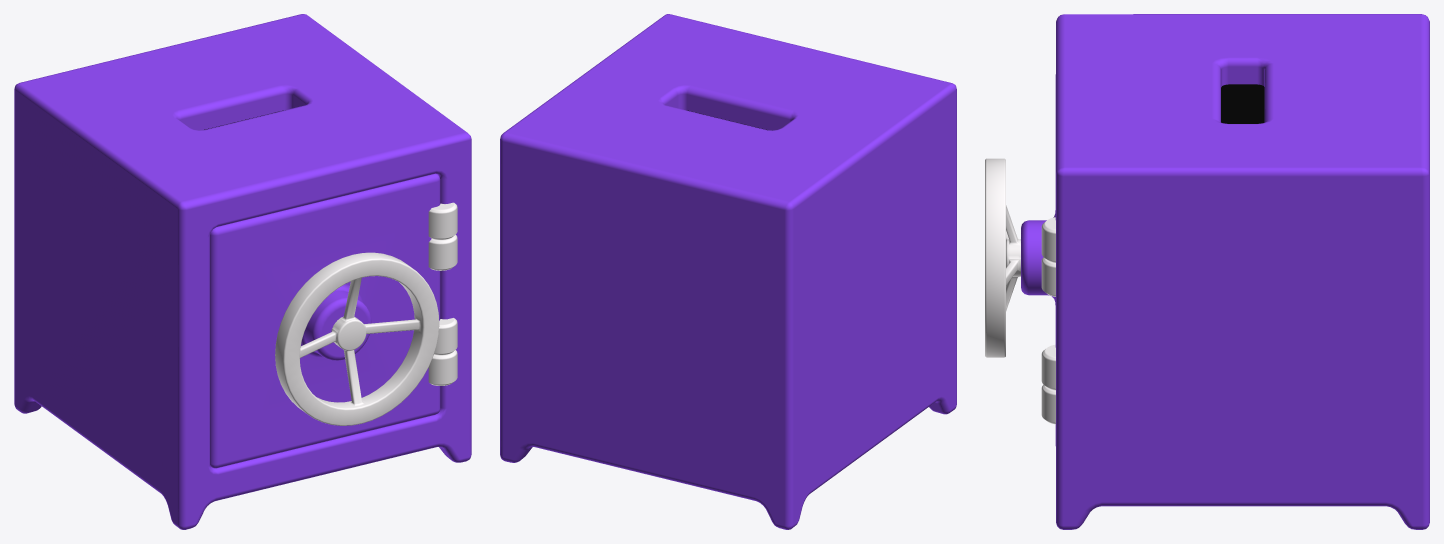
The model's file is safe.glb.
3 views of the same model, side by side, from view 1: azimuth 30°, elevation 25°; view 2: azimuth 150°, elevation 25°; view 3: azimuth 270°, elevation 25° (orthographic). The views are drawn at different scales.
Parts seen in each view (by area): view 1: box, wheel, hinges; view 2: box; view 3: box, wheel, hinges, inside.
Part boxes in pixels (left/top/right/bottom): box: left=14, top=14, right=471, bottom=529; wheel: left=275, top=252, right=439, bottom=425; hinges: left=428, top=202, right=457, bottom=385; box: left=500, top=14, right=956, bottom=529; box: left=1021, top=14, right=1429, bottom=529; wheel: left=985, top=158, right=1020, bottom=357; hinges: left=1041, top=217, right=1055, bottom=424; inside: left=1221, top=84, right=1264, bottom=123.
Size of the model in its own units: 2 by 2.14 by 2.38.
